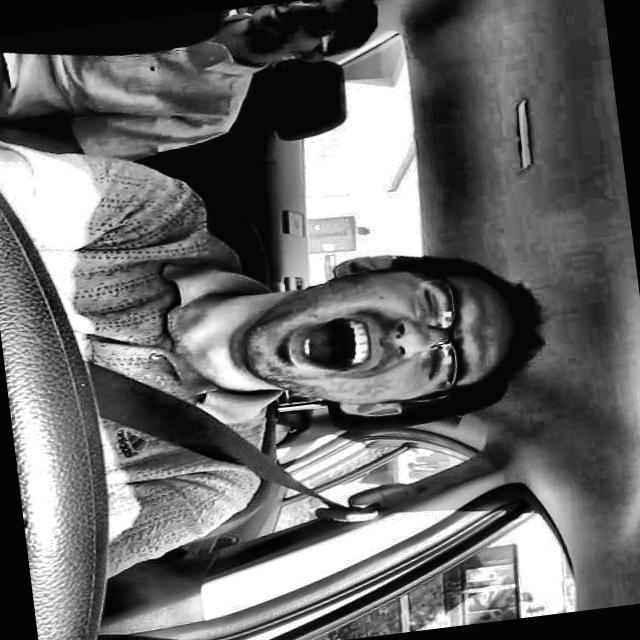closed_eyes: (406, 278, 452, 328), (414, 339, 458, 391)
open_mouth: (270, 295, 387, 391)
